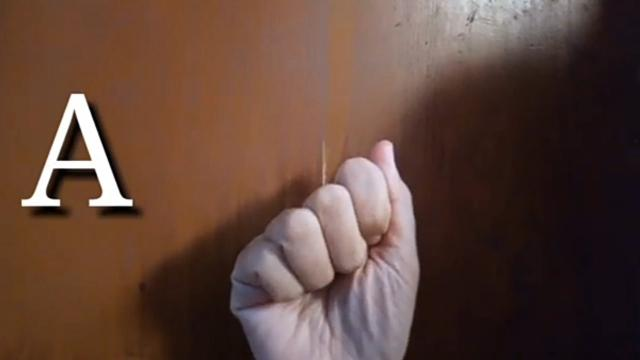A: (221, 134, 434, 360)
